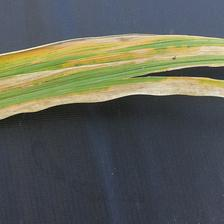2 BacterialBlight: (7, 32, 222, 101)
